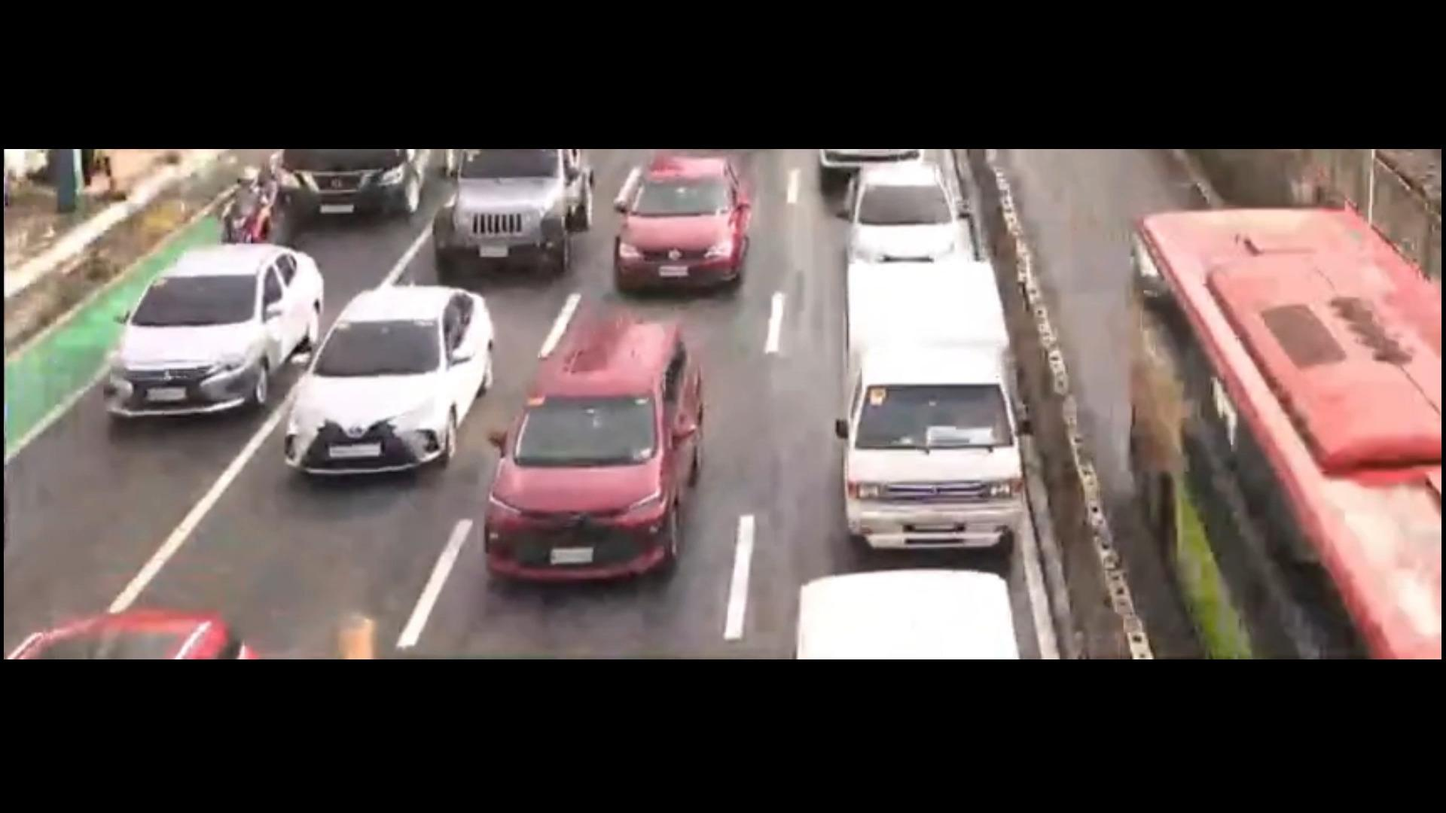Bus: (1111, 179, 1446, 661)
Motorcycle: (192, 164, 305, 256)
Multicab: (826, 247, 1054, 562)
SUV: (457, 315, 720, 592), (420, 149, 602, 273)
Sedan: (81, 230, 330, 452), (266, 273, 505, 497), (594, 147, 770, 306), (855, 162, 981, 276)
Van: (272, 148, 418, 224)
